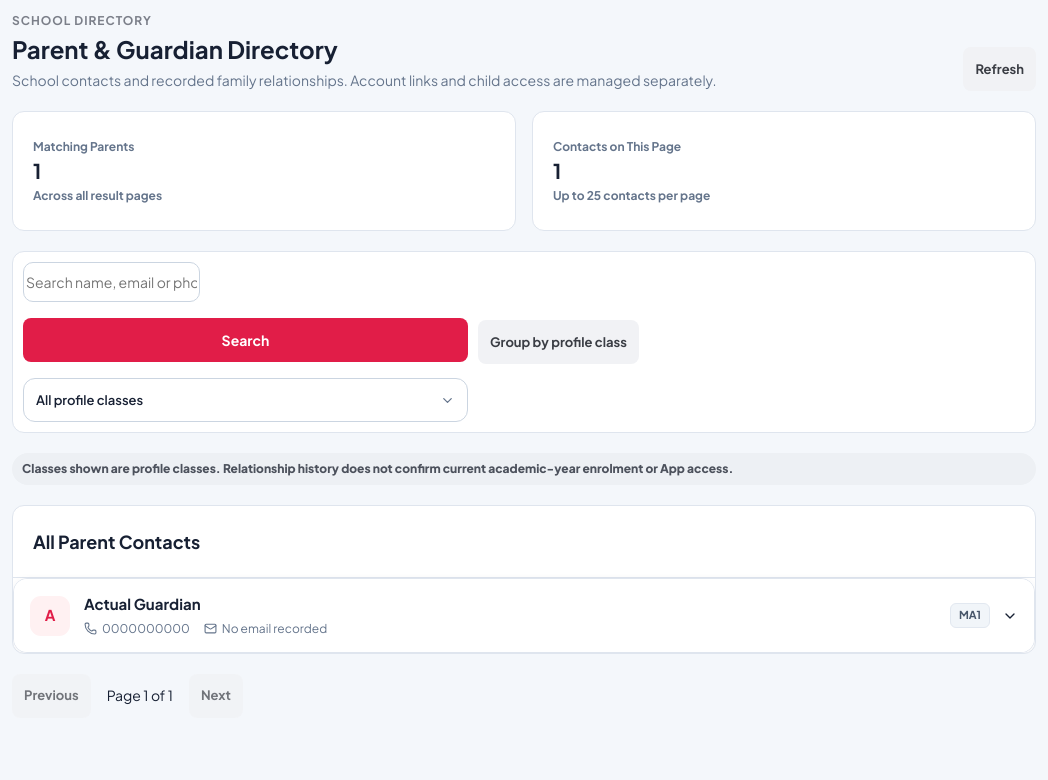
Test case: ParentsPage › clears old results on failure and retries without demo data
The image size is (1048, 780).
Check: the heading "Actual Guardian" is shown, box [84,594,200,614]
Click the button "Refresh": (1000, 70) [963,48,1036,92]
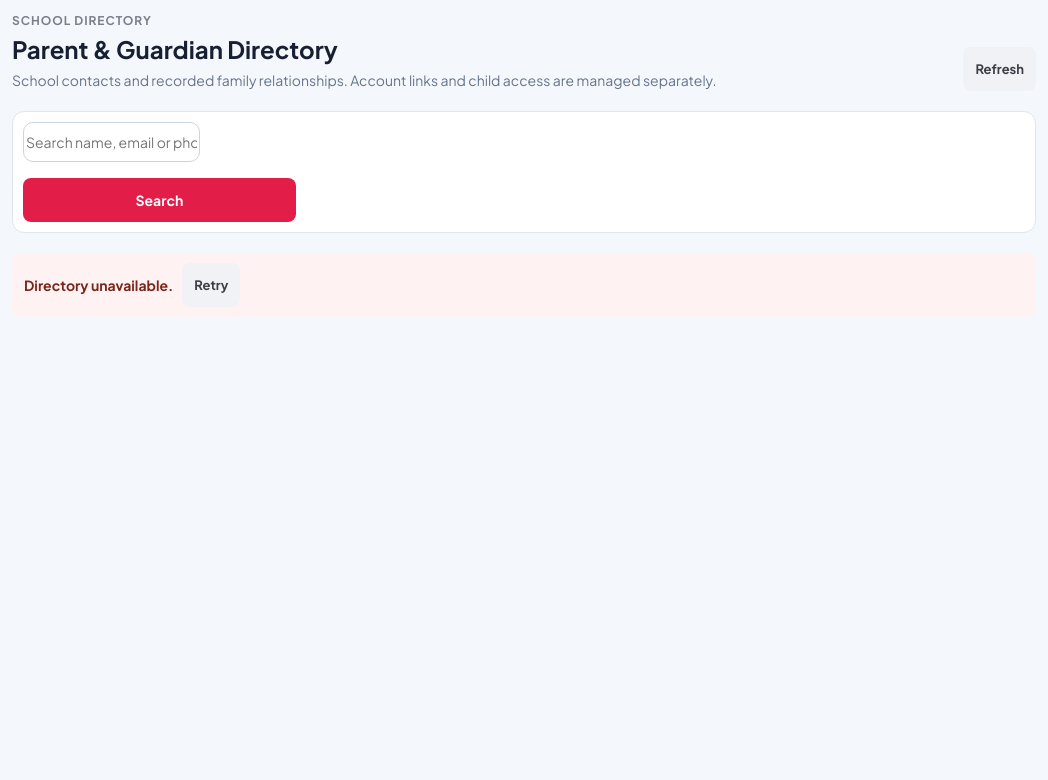
Check: the message shows "Directory unavailable.", box [24,276,173,294]
Check: the button "Actual Guardian" is gone
Click the button "Retry": (211, 286) [182,264,240,308]
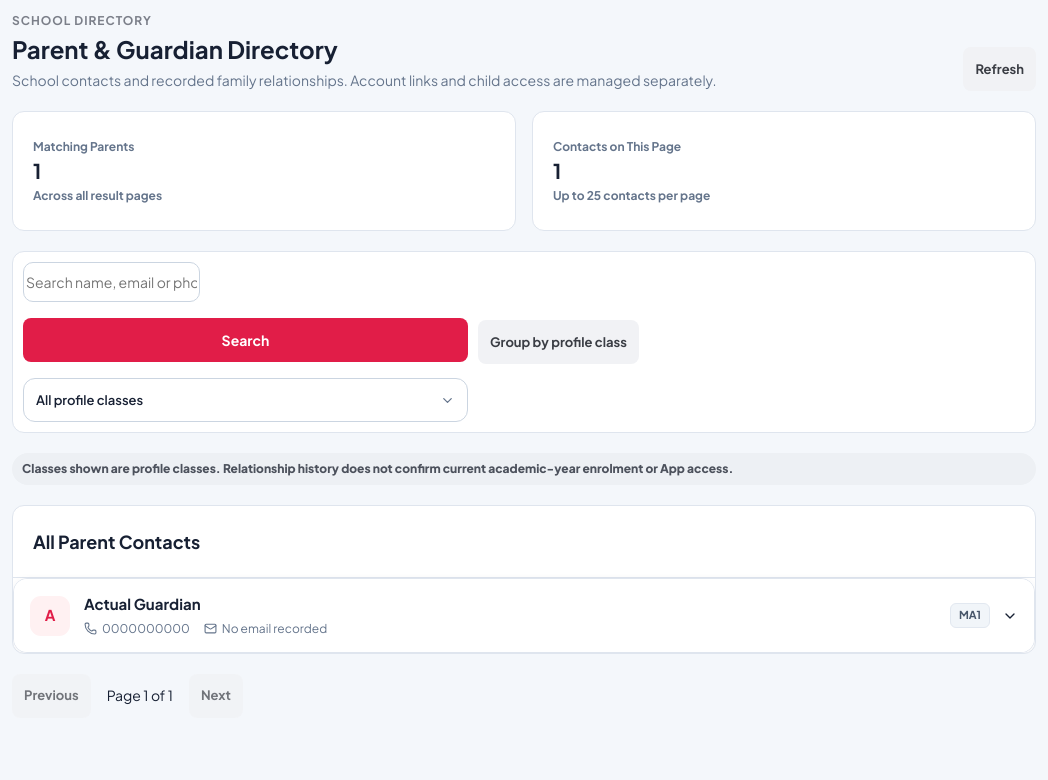
Check: the heading "Actual Guardian" is shown, box [84,594,200,614]
